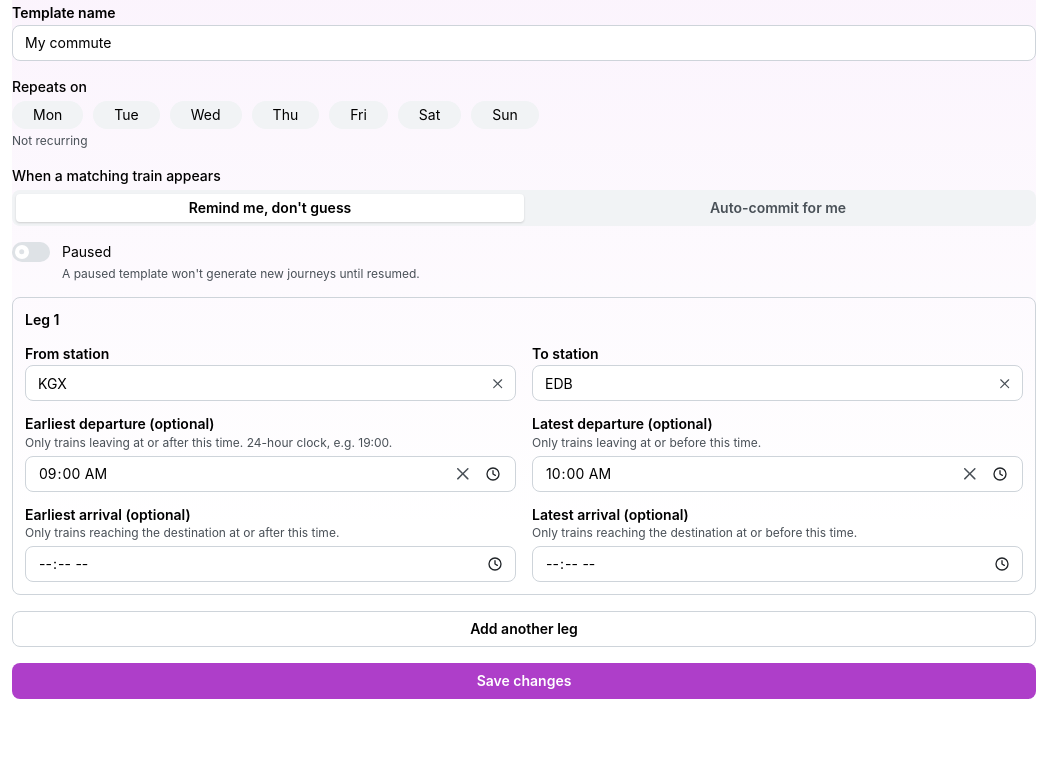
Test: EditJourneyTemplateForm › removes a leg client-side via the plain-text Remove button
Click the button "Add another leg" at (524, 629), box [12,611,1036,647]
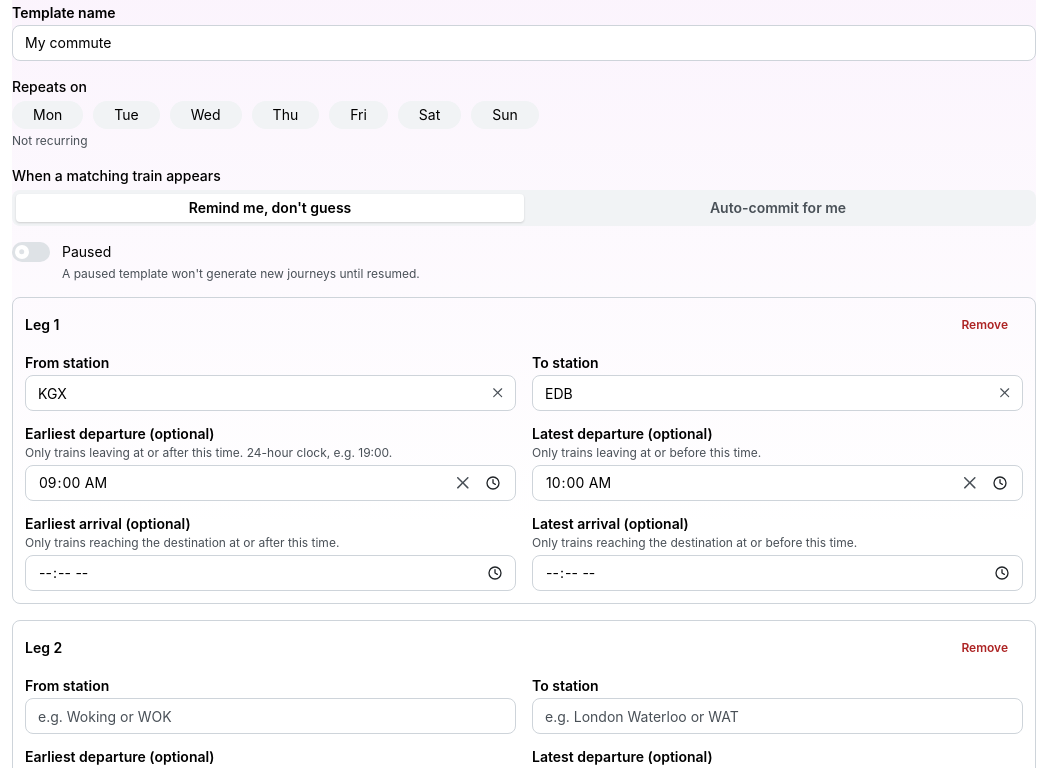
Expected: the number of dropdowns labelled "From station" is 2, [25,375,516,411]; [25,698,516,734]
Click the button with aria-label "Remove leg 2" at (985, 648), box [946,633,1023,663]
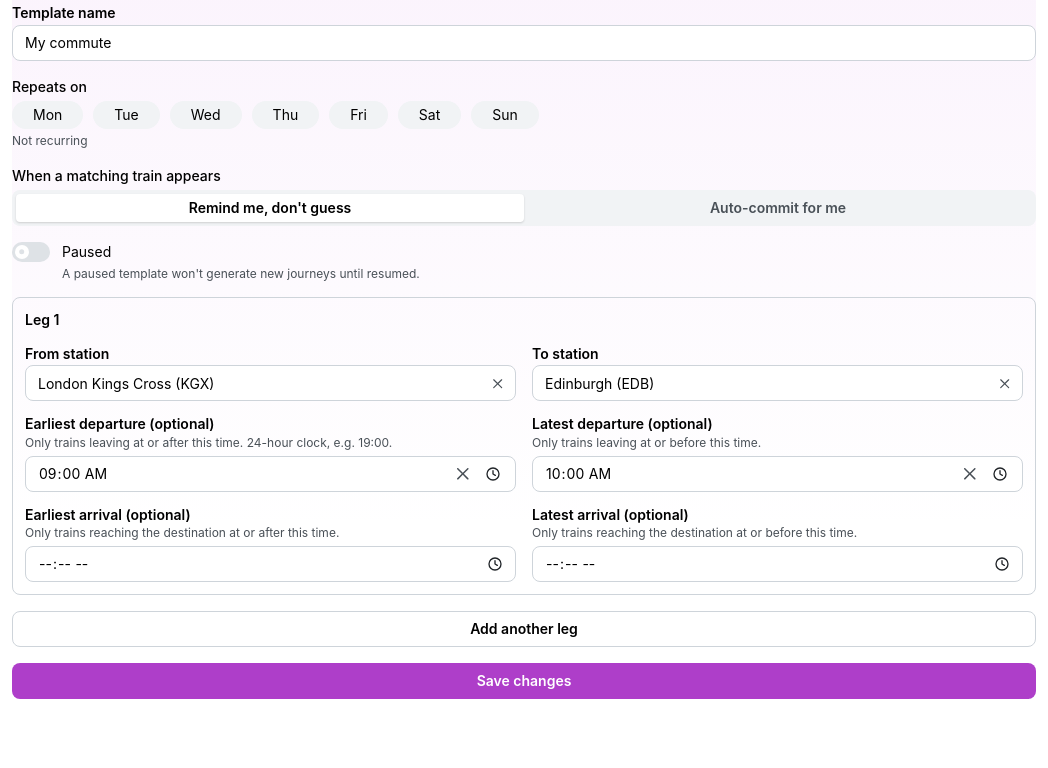
Expected: the number of dropdowns labelled "From station" is 1, [25,365,516,401]
Expected: the text "Leg 2" is gone
